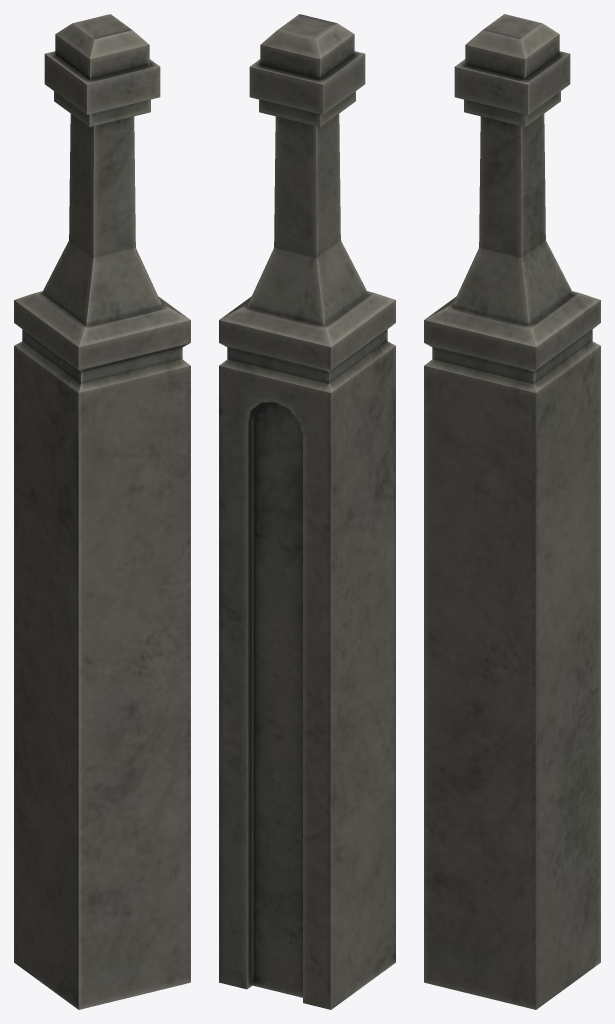
Rendered from SM_Column4.fbx.
3 renders of one model, left to right at view 1: azimuth 30°, elevation 25°; view 2: azimuth 150°, elevation 25°; view 3: azimuth 330°, elevation 25°, orthographic.
Visible parts, largest first — view 1: SM_Column4; view 2: SM_Column4; view 3: SM_Column4.
Part boxes in pixels (x1,y1,x2,y2): SM_Column4: (14, 14, 190, 1009); SM_Column4: (219, 14, 395, 1009); SM_Column4: (424, 14, 600, 1009).
Size of the model in its own units: 44.21 by 44.21 by 357.
